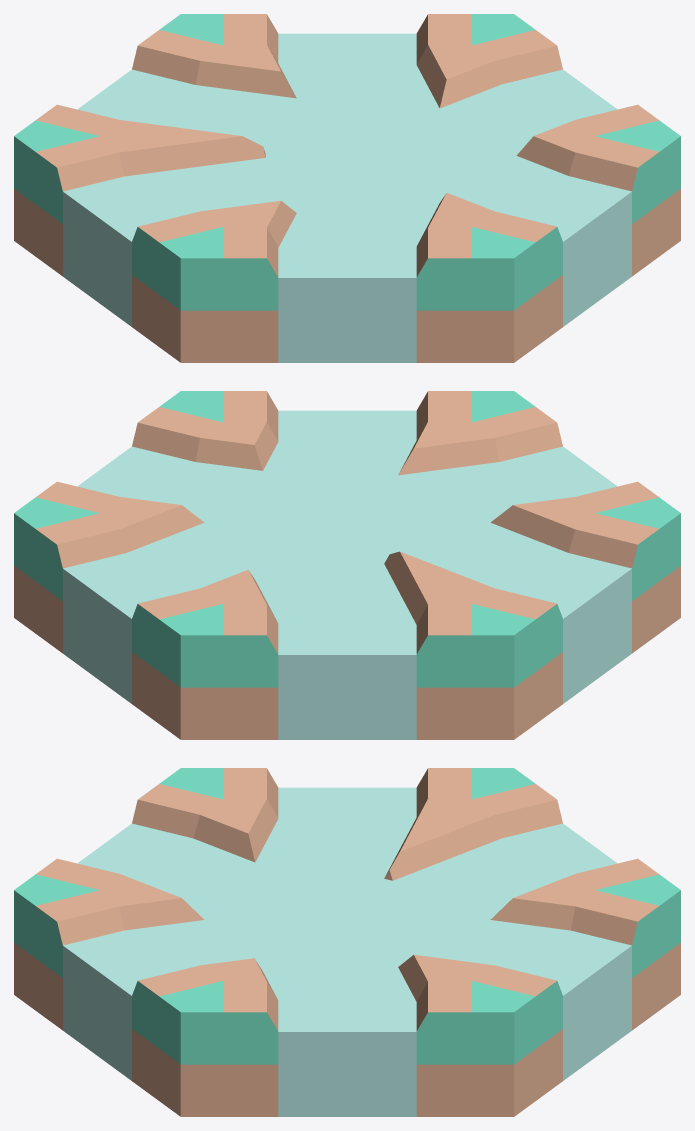
Rendered from river_crossing.glb.
3 views of the same model, one above another, from view 1: azimuth 30°, elevation 25°; view 2: azimuth 150°, elevation 25°; view 3: azimuth 270°, elevation 25° (orthographic).
Parts seen in each view (by area): view 1: river_crossing; view 2: river_crossing; view 3: river_crossing.
Part boxes in pixels (x1,y1,x2,y2): river_crossing: (14, 14, 680, 362); river_crossing: (14, 391, 680, 739); river_crossing: (14, 768, 680, 1116).
Size of the model in its own units: 1 by 0.2 by 1.15.
